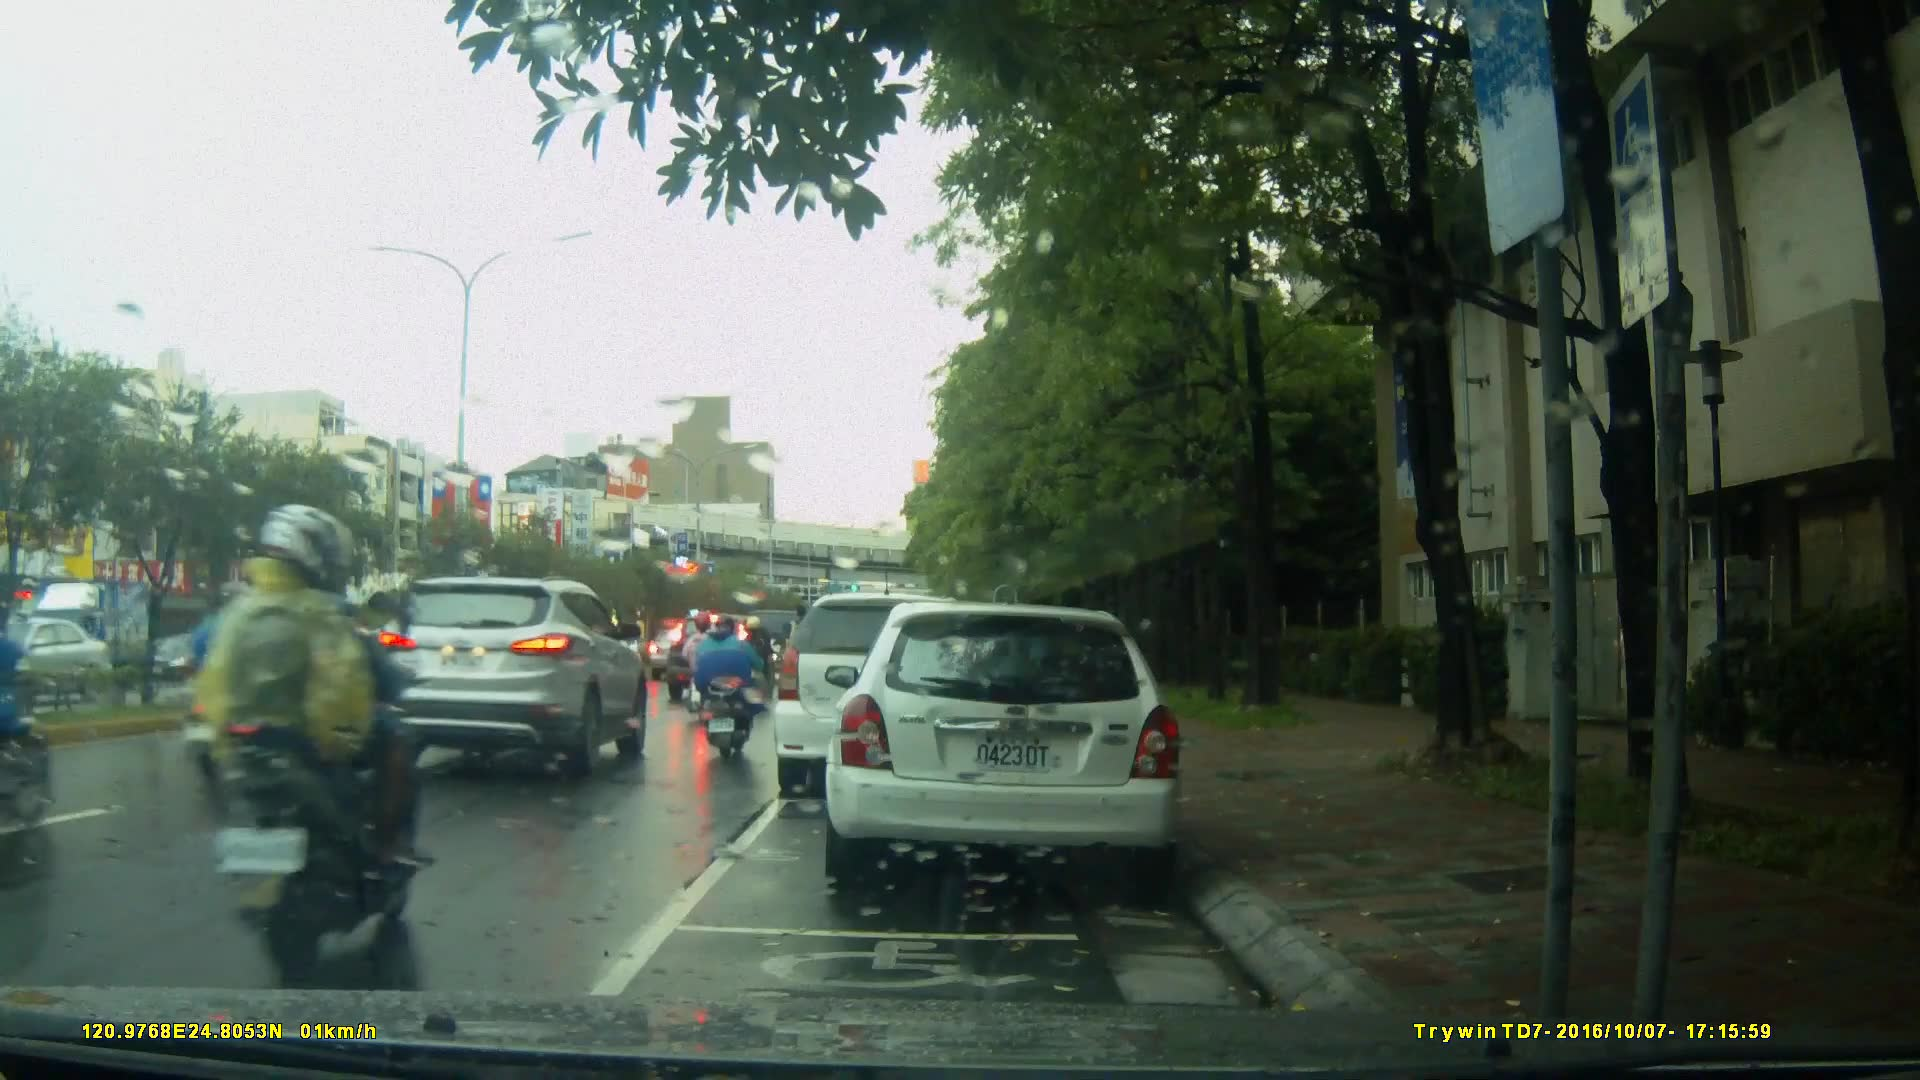rider: (190, 503, 418, 969), (188, 575, 286, 770), (1, 598, 53, 821), (690, 612, 766, 759), (676, 607, 726, 736), (735, 616, 780, 706), (788, 602, 816, 701)
vehicle: (822, 604, 1188, 883), (339, 568, 658, 776), (774, 595, 995, 802), (20, 576, 199, 697), (664, 612, 759, 704)
